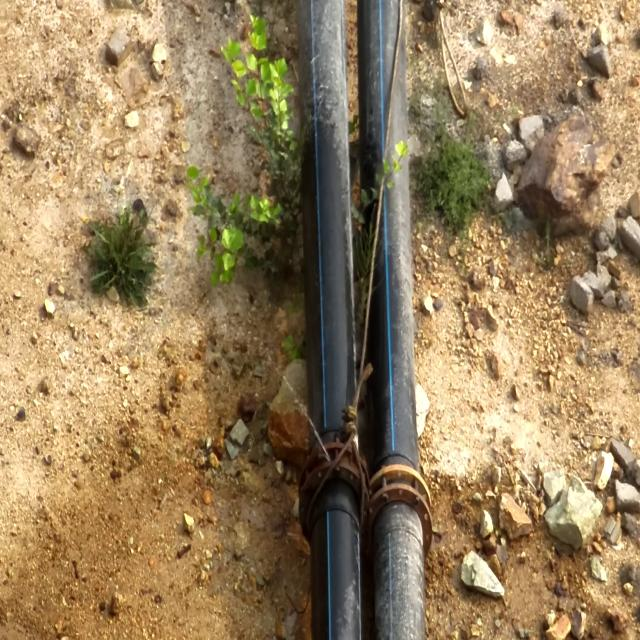leak: (227, 330, 335, 466)
